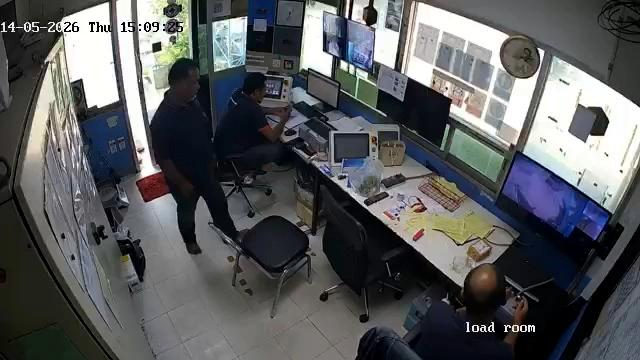Head: (464, 264, 507, 311), (168, 59, 203, 96), (245, 71, 268, 104)
People: (150, 58, 216, 256), (424, 264, 524, 360), (225, 71, 296, 161)
Phone: (283, 101, 296, 110)
